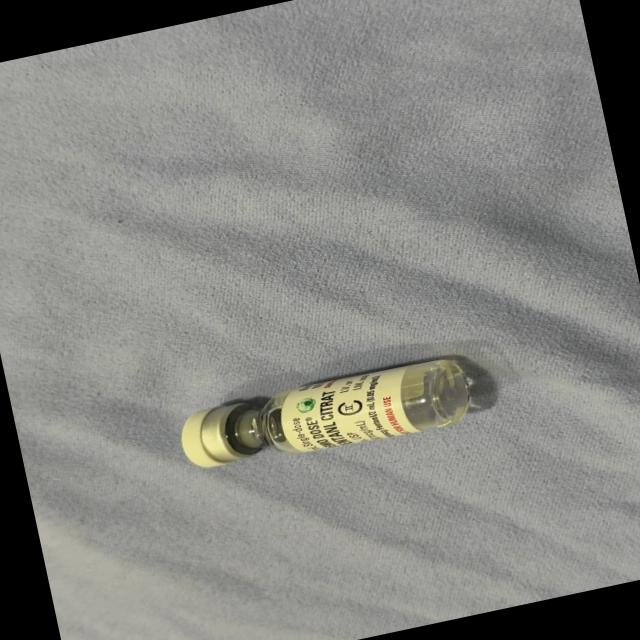fentanl_citrat: (180, 352, 476, 478)
